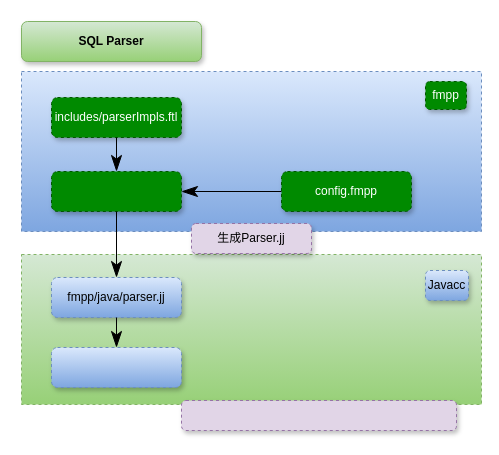
Some shapes in this 499 by 455 pixel diagram are drawn without their labels. Here are the shapes that lost their labels. From the top down, the centre of each, then its label:
the point at 117,192: templates/parser.jj
the point at 117,368: javacc/*
the point at 319,417: 生成SQL语句的词法分析和语法解析器（Class）
